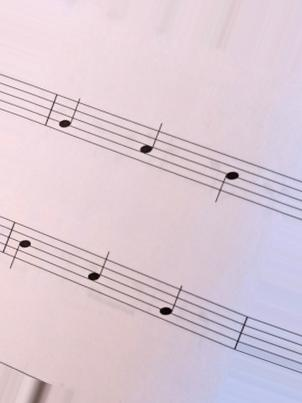note: (213, 145, 242, 208), (136, 117, 164, 180), (157, 276, 185, 338), (7, 215, 35, 274), (57, 88, 84, 149), (86, 245, 112, 305)
